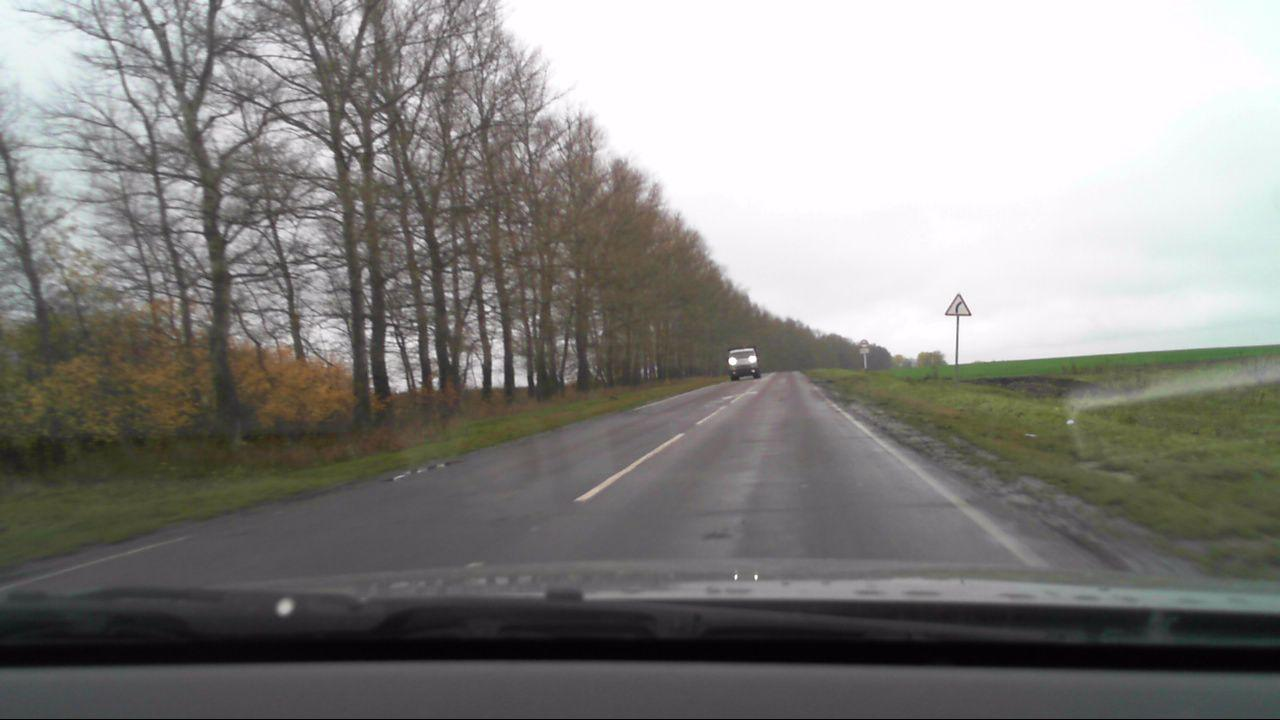1_11_1: (943, 293, 968, 322)
